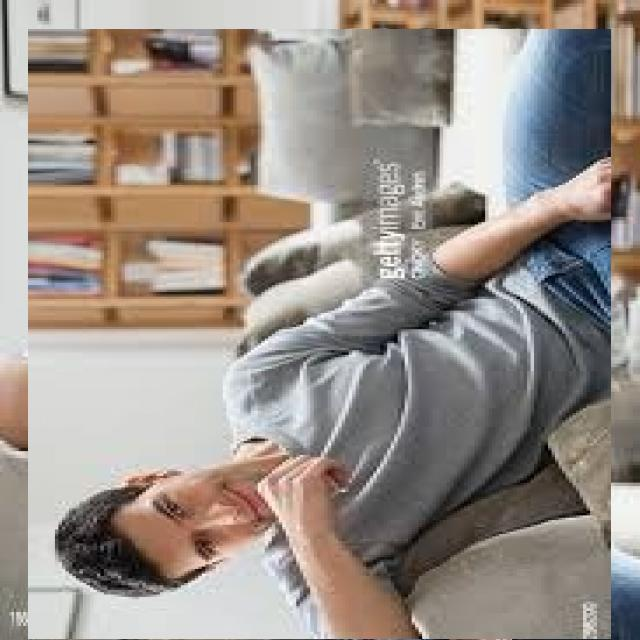NotFall: (61, 86, 640, 640)
